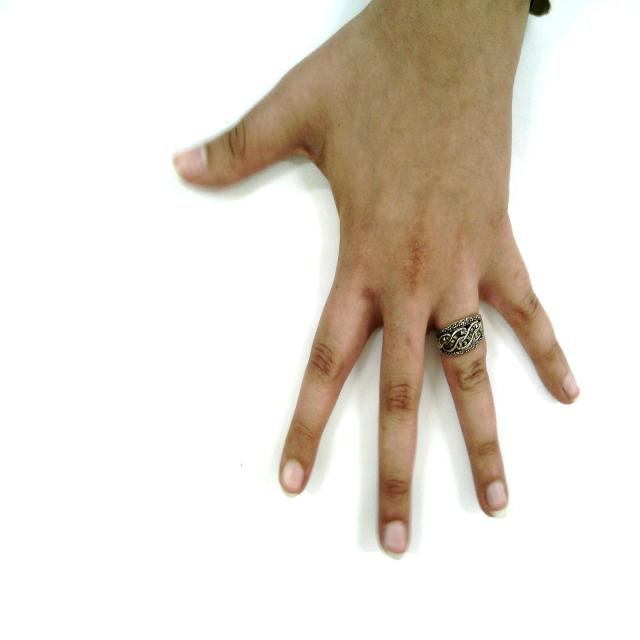Nail: (173, 143, 207, 180), (382, 521, 409, 559), (280, 460, 305, 497), (487, 480, 509, 519), (563, 365, 581, 402)
